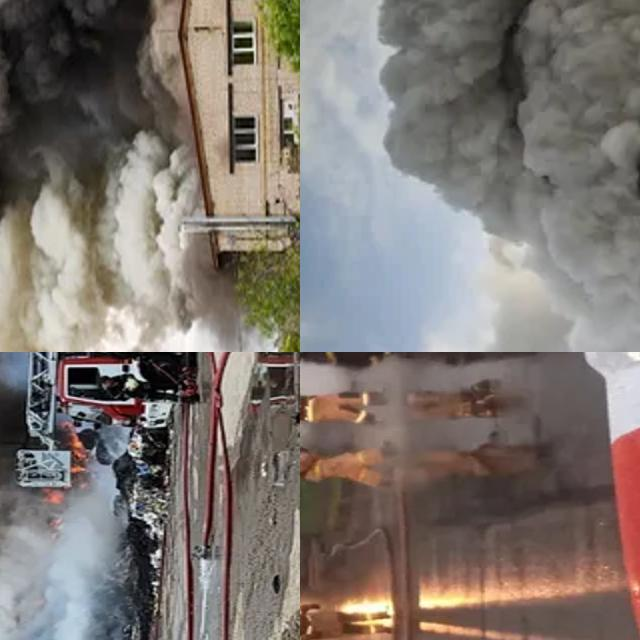smoke: (377, 0, 640, 352), (0, 0, 188, 352), (0, 352, 130, 640)
